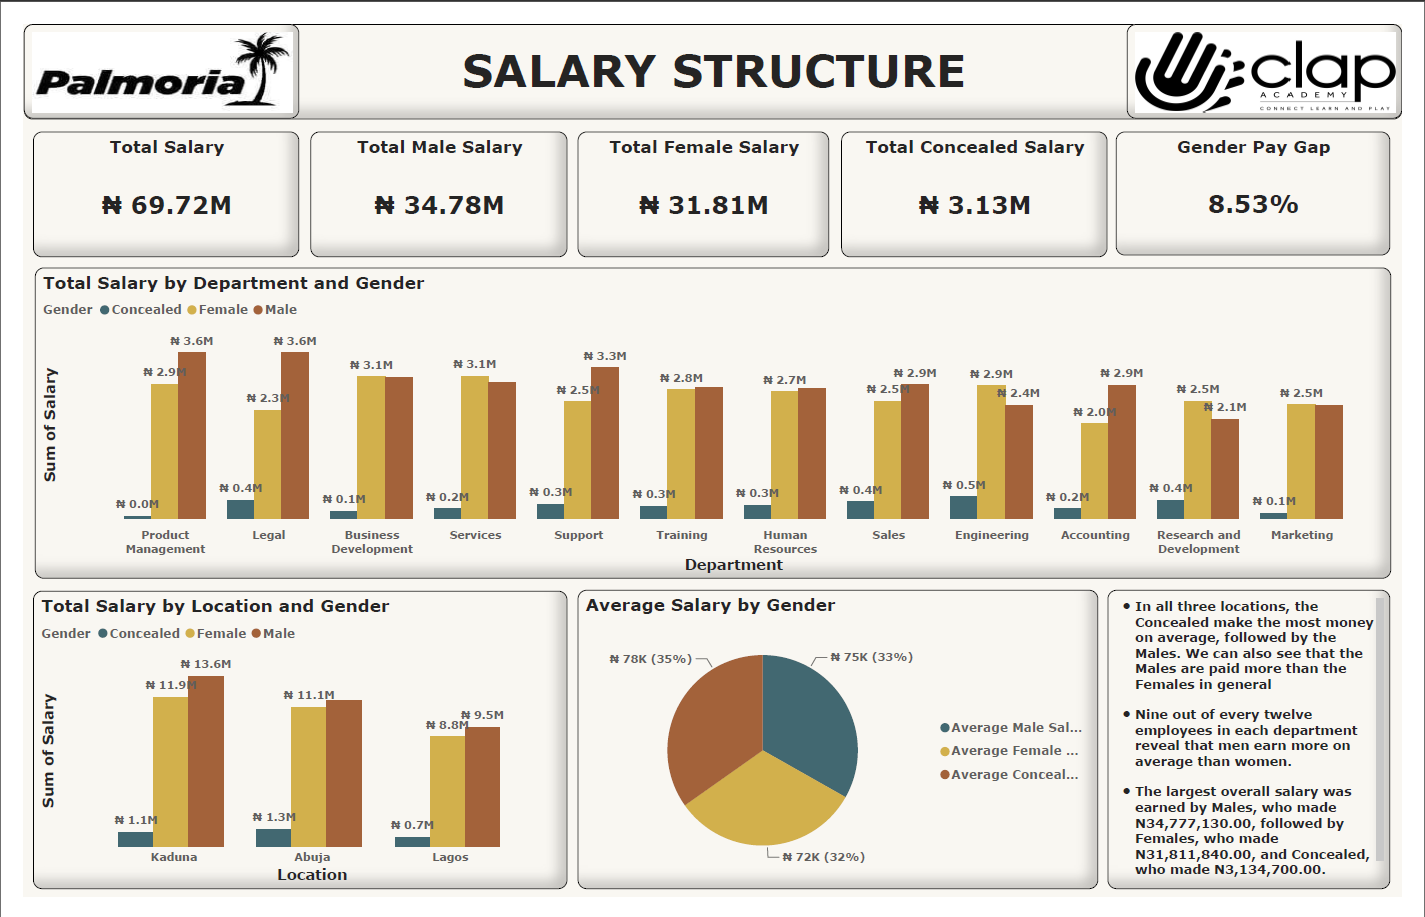

Layout of this report page (visuals, bound fields, positions):
{"tool":"powerbi","page":{"name":"Salary Structure","canvas":[1500,950],"ordinal":4},"visuals":[{"type":"textbox","box":[0,0,1501.4,103.6],"z":0,"group":"g1"},{"type":"clusteredColumnChart","title":"Total Salary by Location and Gender","fields":{"Y":["Sum(Palmoria Data.Salary)"],"Series":["Palmoria Data.Gender"],"Category":["Palmoria Data.Location"]},"box":[9.5,617.4,582.4,324.6],"z":0},{"type":"image","box":[1200.6,0,300.2,103.5],"z":1000,"group":"g1"},{"type":"clusteredColumnChart","title":"Total Salary by Department and Gender","fields":{"Category":["Palmoria Data.Department"],"Y":["Sum(Palmoria Data.Salary)"],"Series":["Palmoria Data.Gender"]},"box":[12.3,264.5,1476.8,339.5],"z":1000},{"type":"image","box":[0,0,300.2,103.4],"z":2000,"group":"g1"},{"type":"card","title":"Total Salary","fields":{"Values":["Palmoria Data.Total Salary"]},"box":[9.5,117.3,290.5,136.4],"z":2000},{"type":"card","title":"Total Female Salary","fields":{"Values":["Palmoria Data.Total Female Salary"]},"box":[602.7,117.3,274.1,136.4],"z":3000},{"type":"card","title":"Total Male Salary","fields":{"Values":["Palmoria Data.Total Male Salary"]},"box":[312.3,117.3,279.5,136.4],"z":4000},{"type":"card","title":"Total Concealed Salary","fields":{"Values":["Palmoria Data.Total Concealed Salary"]},"box":[890.5,117.3,289.1,136.4],"z":5000},{"type":"textbox","box":[1179.5,616.4,308.2,325.9],"z":6000},{"type":"group","id":"g1","title":"Group 1","box":[0,0,1501.4,103.6],"z":7000},{"type":"pieChart","title":"Average Salary by Gender","fields":{"Y":["Palmoria Data.Average Male Salary","Palmoria Data.Average Female Salary","Palmoria Data.Average Concealed Salary"]},"box":[602.7,616.4,567.3,325.9],"z":8000},{"type":"card","title":"Gender Pay Gap","fields":{"Values":["Palmoria Data.Gender Pay Gap"]},"box":[1189.1,117.3,298.6,135],"z":9000}]}

Visuals, with their boxes in screenshot pixels (x1, y1, x2, y2), scaled from the page's 1500x950 canvas onto the 1425x917 screenshot:
textbox: [0, 0, 1424, 100]
"Total Salary by Location and Gender" clusteredColumnChart: [9, 596, 562, 909]
image: [1141, 0, 1424, 100]
"Total Salary by Department and Gender" clusteredColumnChart: [12, 255, 1415, 583]
image: [0, 0, 285, 100]
"Total Salary" card: [9, 113, 285, 245]
"Total Female Salary" card: [573, 113, 833, 245]
"Total Male Salary" card: [297, 113, 562, 245]
"Total Concealed Salary" card: [846, 113, 1121, 245]
textbox: [1121, 595, 1413, 910]
"Group 1" group: [0, 0, 1424, 100]
"Average Salary by Gender" pieChart: [573, 595, 1112, 910]
"Gender Pay Gap" card: [1130, 113, 1413, 244]
